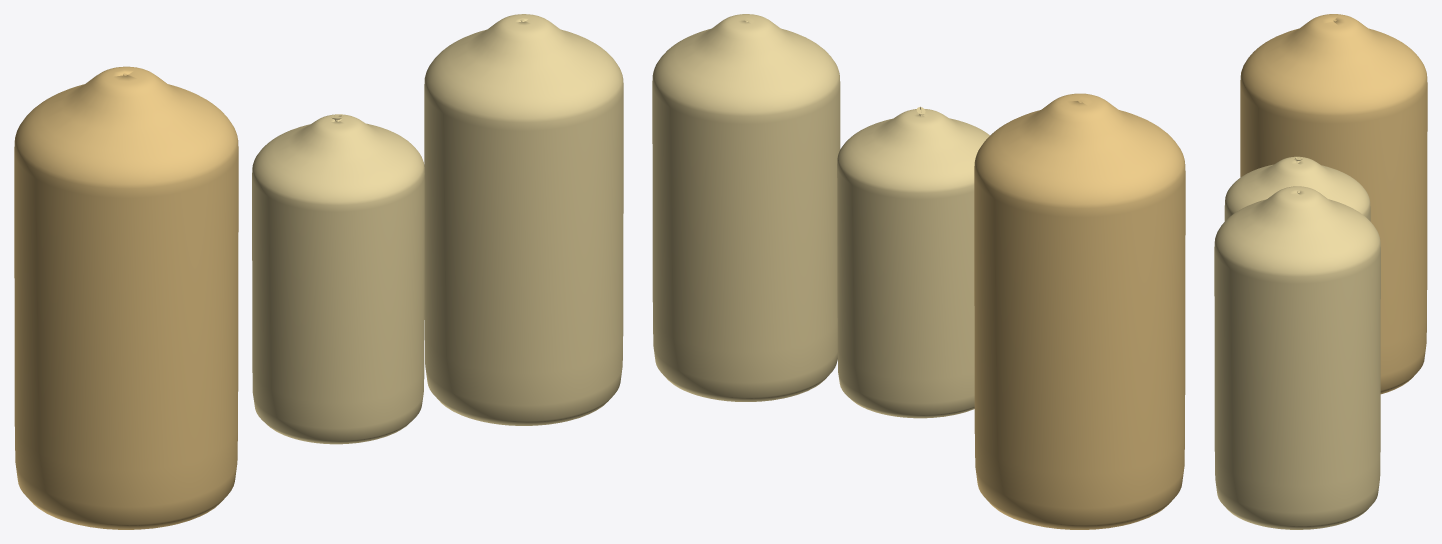
Rendered from candlesOnly.fbx.
The picture shows the model from 3 angles, left to right: view 1: azimuth 30°, elevation 25°; view 2: azimuth 150°, elevation 25°; view 3: azimuth 270°, elevation 25°; orthographic projection. The views are drawn at different scales.
Parts seen in each view (by area): view 1: candle, candle3, candle 2; view 2: candle, candle3, candle 2; view 3: candle3, candle, candle 2.
Part boxes in pixels (<box>): candle: <box>14,66,238,529</box>; candle3: <box>424,14,623,425</box>; candle 2: <box>252,114,424,444</box>; candle: <box>974,93,1185,529</box>; candle3: <box>652,14,840,401</box>; candle 2: <box>837,109,989,418</box>; candle3: <box>1214,186,1380,529</box>; candle: <box>1240,14,1427,394</box>; candle 2: <box>1224,156,1370,221</box>.
Size of the model in its own units: 58.32 by 41.47 by 23.07.
